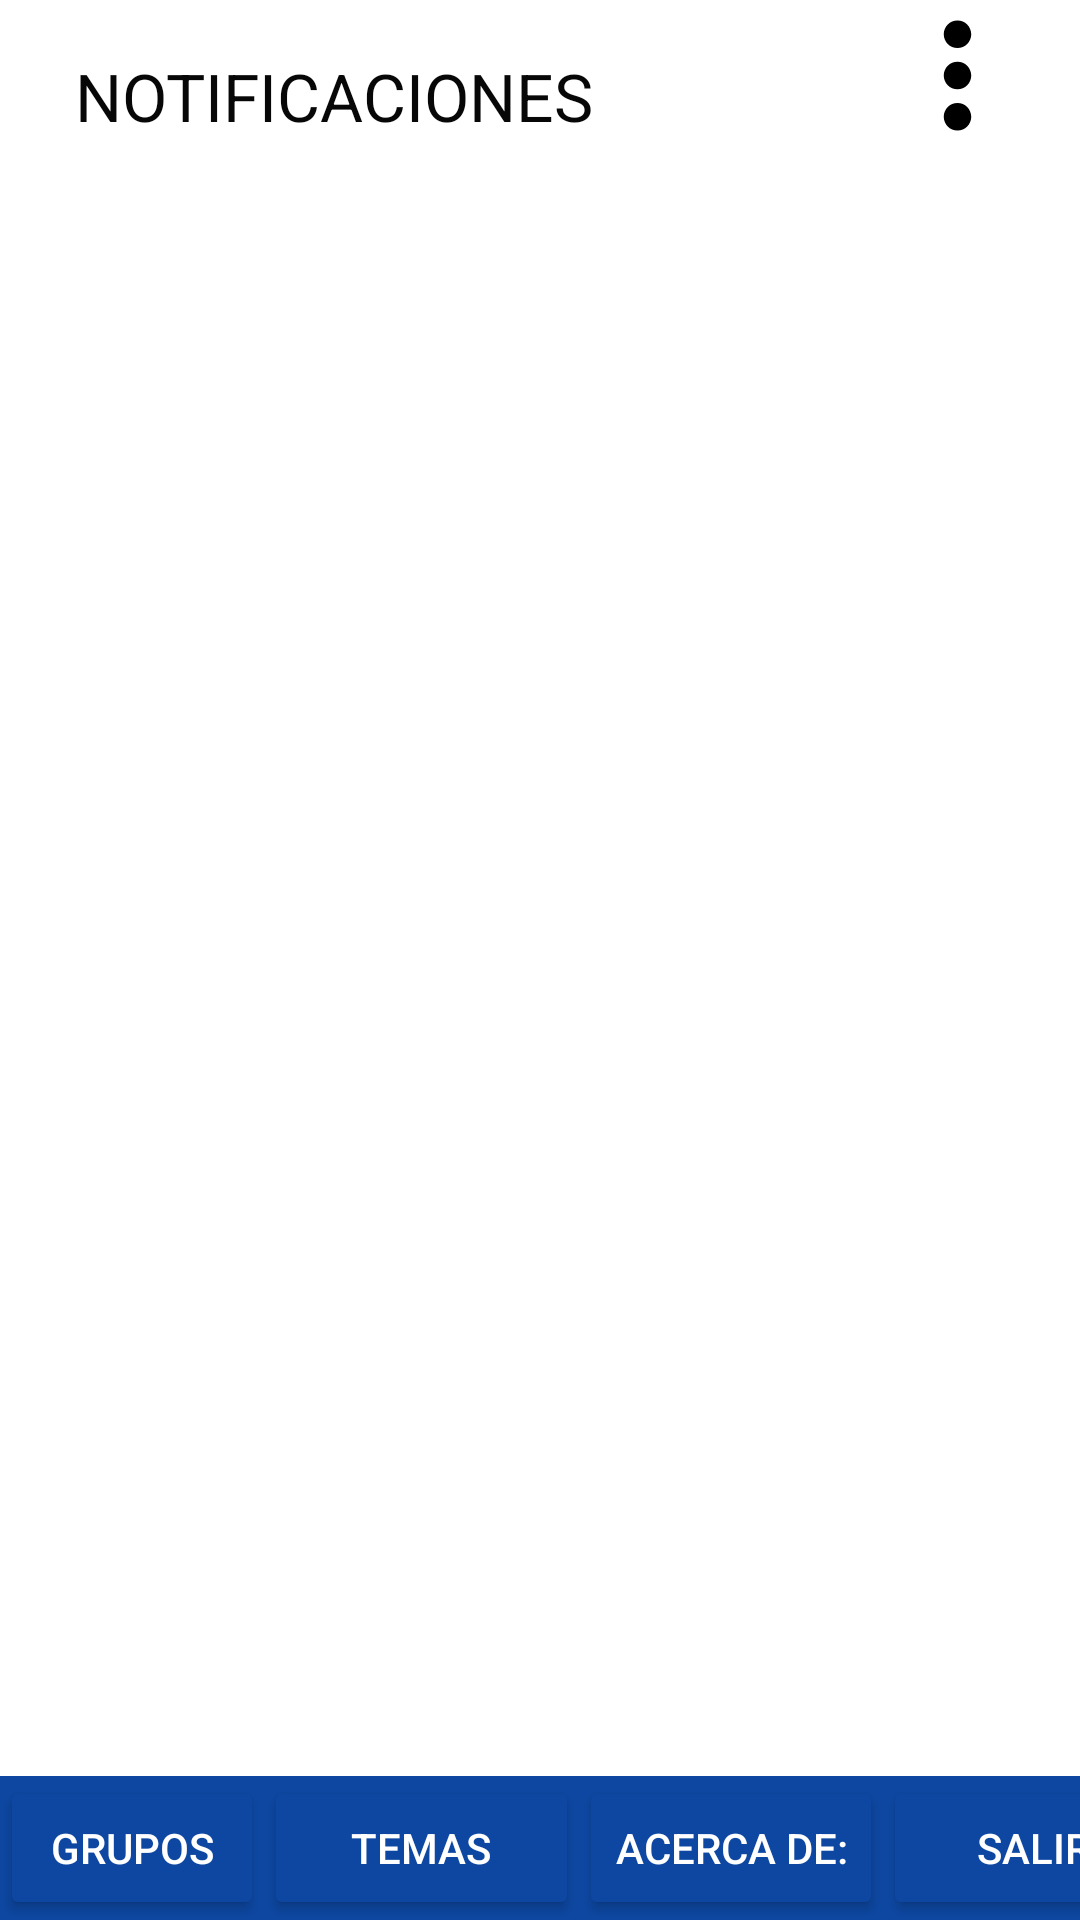

Locate icon controls on the screen. Image size 1080 × 1920, boxes as (x1, y1, x2, y2).
more vert: (943, 20, 972, 131)
